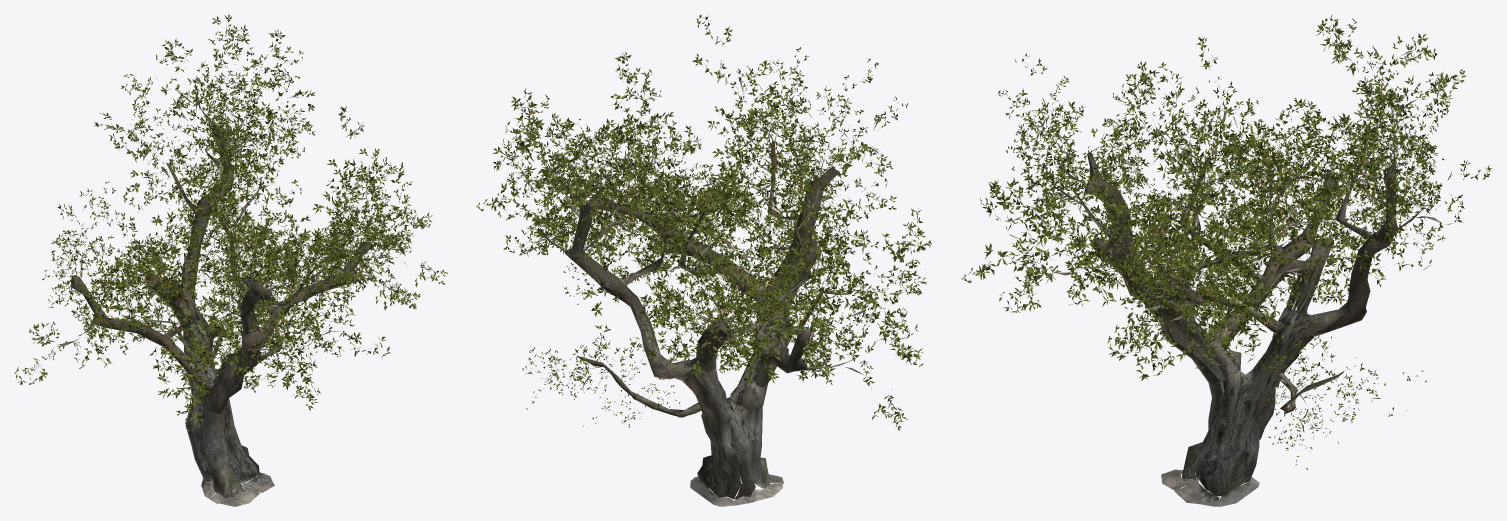
The model's file is tree.glb.
The picture shows the model from 3 angles, left to right: view 1: azimuth 30°, elevation 25°; view 2: azimuth 150°, elevation 25°; view 3: azimuth 270°, elevation 25°; orthographic projection. The views are drawn at different scales.
Visible parts, largest first — view 1: island_tree_01_LOD0; view 2: island_tree_01_LOD0; view 3: island_tree_01_LOD0.
Part boxes in pixels (x1=…): island_tree_01_LOD0: x1=14, y1=14, x2=447, y2=506; island_tree_01_LOD0: x1=476, y1=14, x2=931, y2=506; island_tree_01_LOD0: x1=961, y1=14, x2=1491, y2=506.
Size of the model in its own units: 4.74 by 5.02 by 4.82.
Materials: 3 (3 with a texture image).
